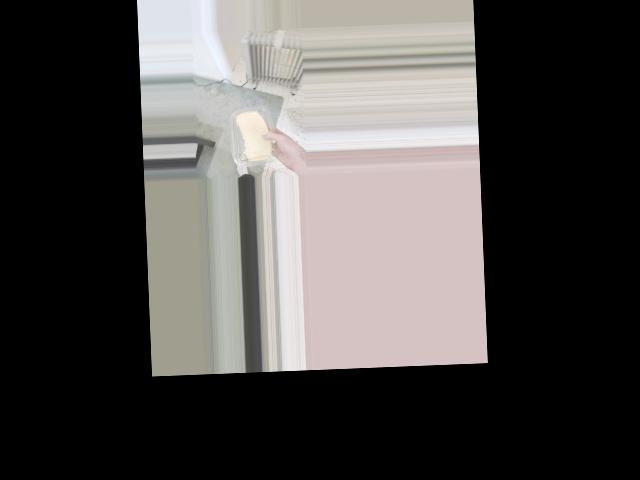cheese: (230, 103, 277, 166)
